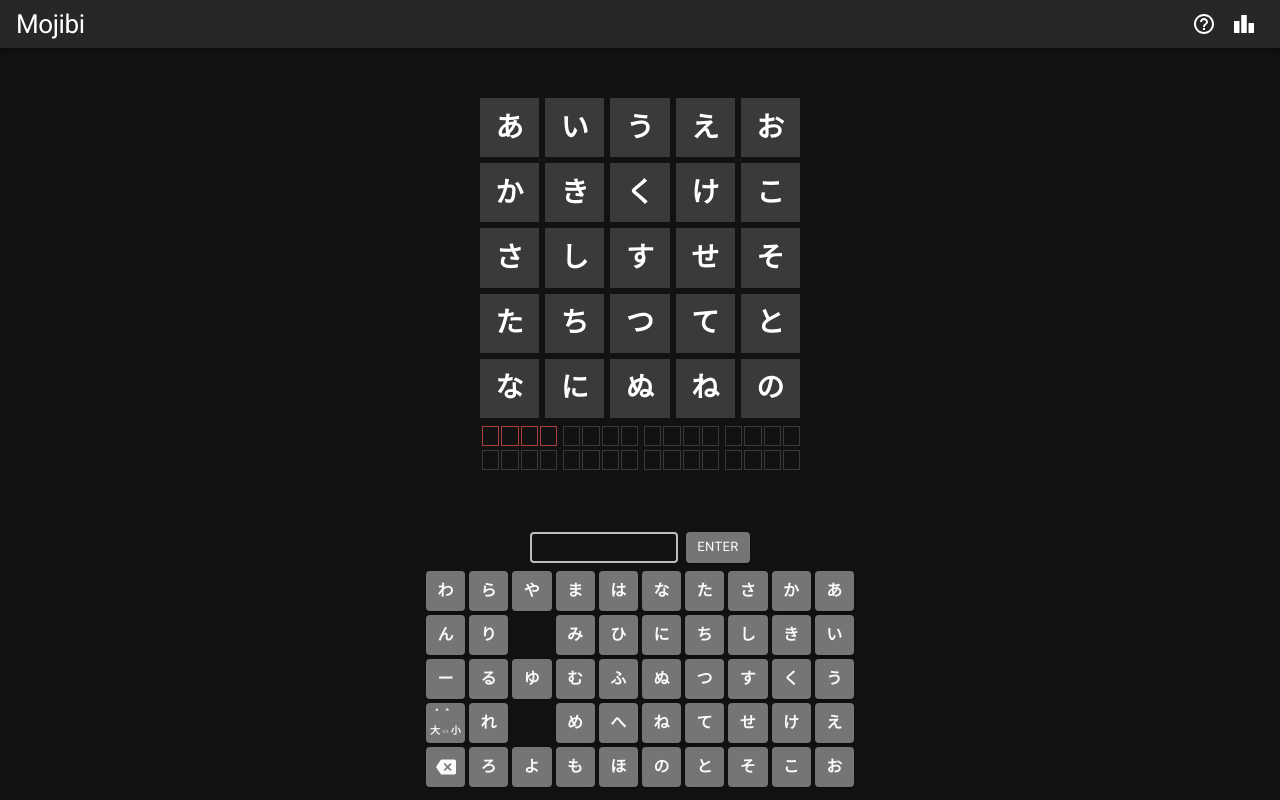
Test: App component › Game › Keyboard › On-Screen Keyboard › When you click か, then click the conversion button › should render が in input box
Click the button "か" at coordinates (791, 591), box 772,571 -> 811,611
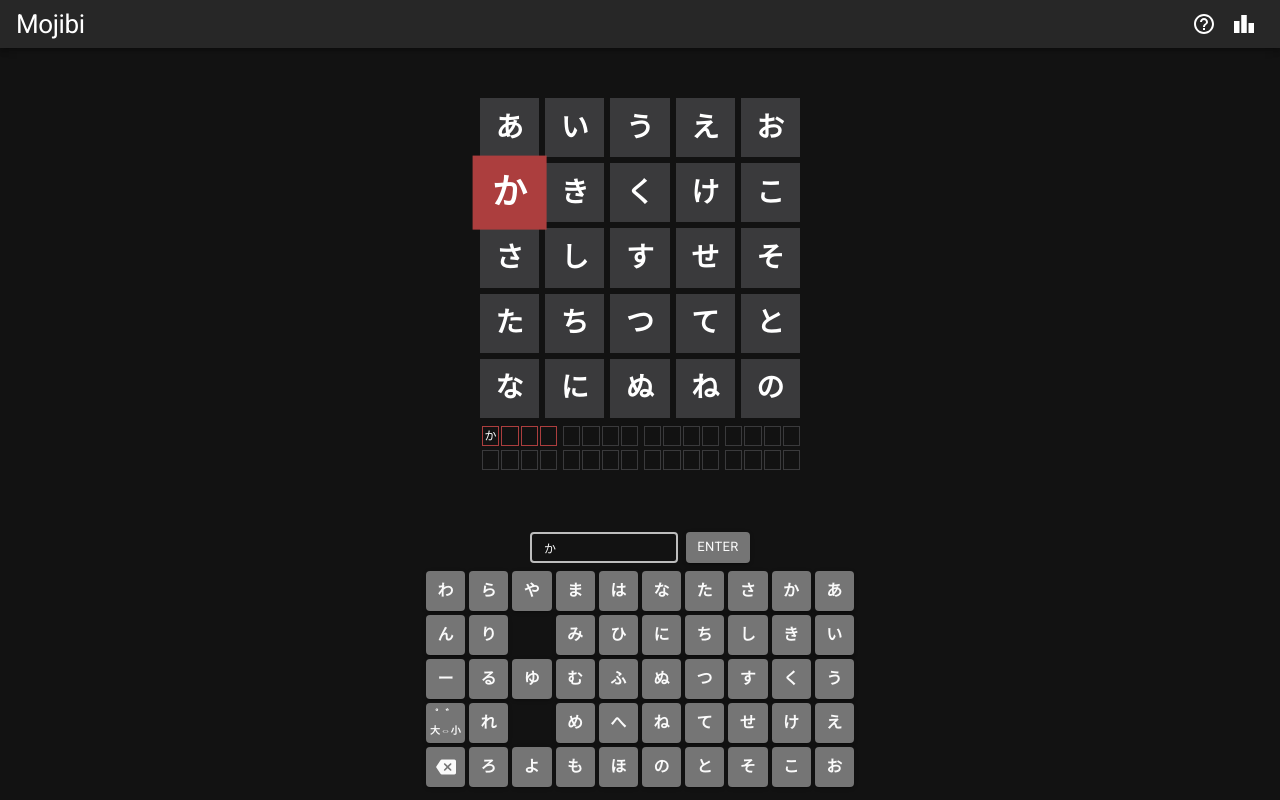
Click the button with test id "conv-key" at coordinates (446, 723), box 426,703 -> 465,743
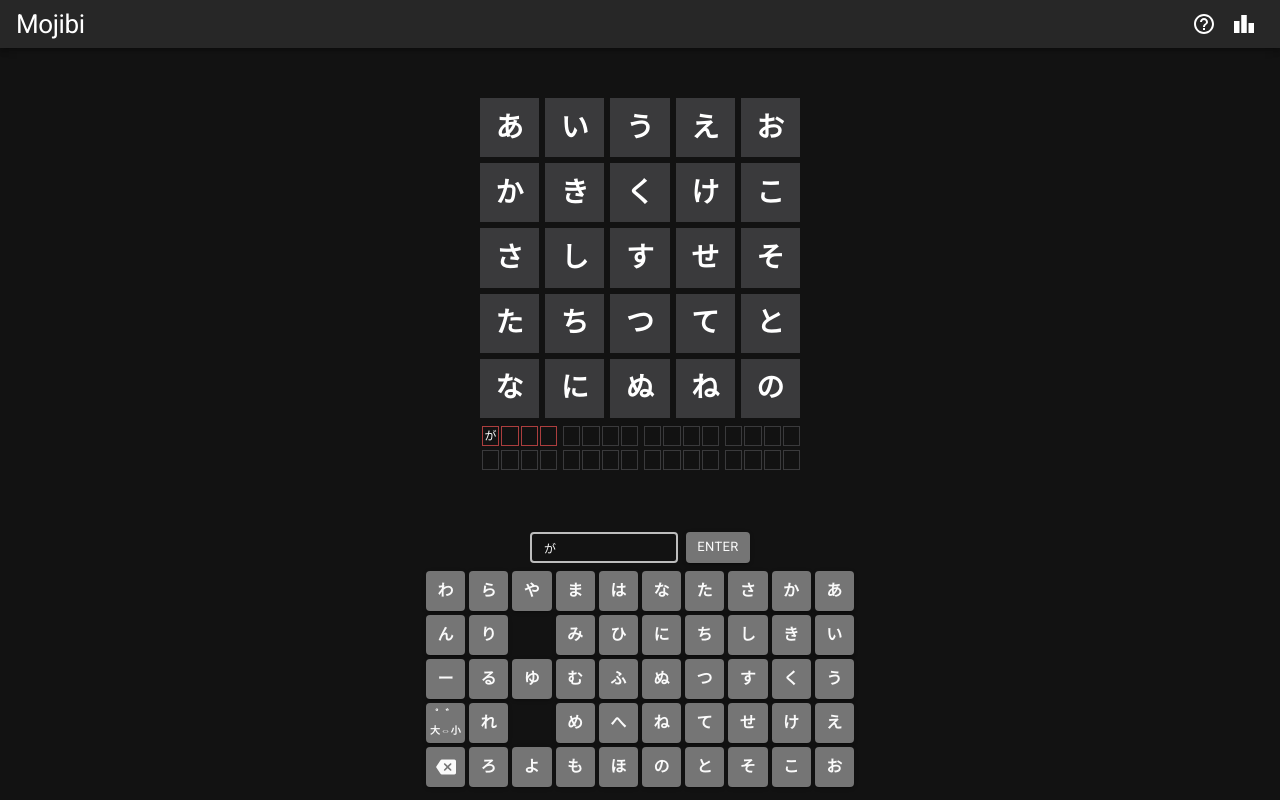
Expected: the field with test id "key-input" holds "が", 530,532 -> 678,563
